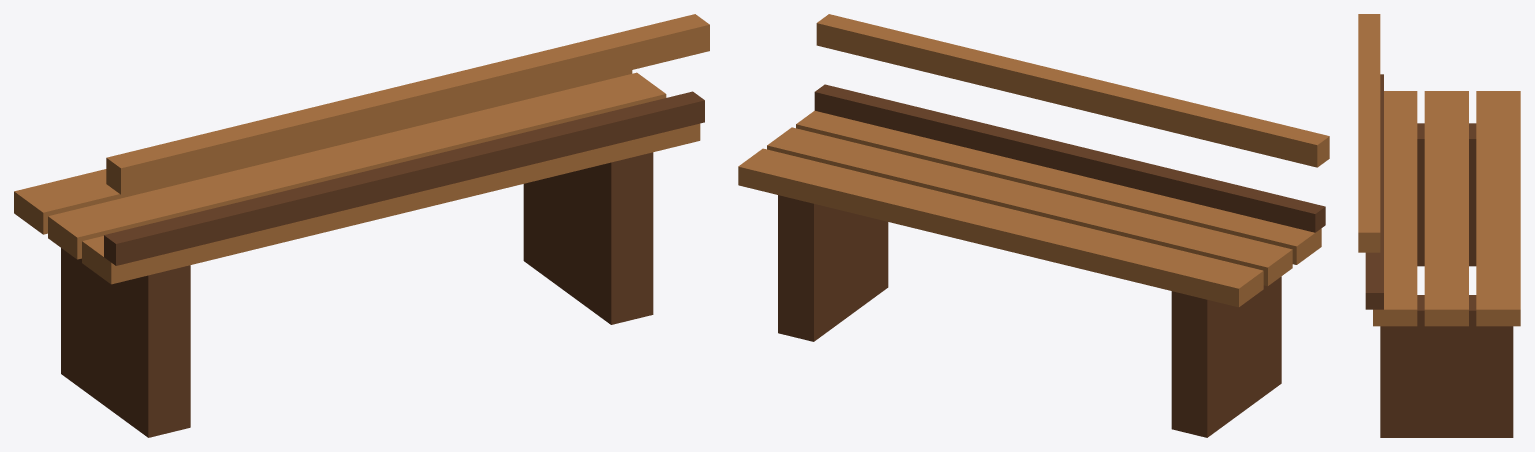
File: bench.obj
The picture shows the model from 3 angles, left to right: view 1: azimuth 30°, elevation 25°; view 2: azimuth 150°, elevation 25°; view 3: azimuth 270°, elevation 25°; orthographic projection. The views are drawn at different scales.
Parts seen in each view (by area): view 1: bench_wood_mid, bench_wood_dark; view 2: bench_wood_mid, bench_wood_dark; view 3: bench_wood_mid, bench_wood_dark.
Part boxes in pixels (bbox=[...]): bench_wood_mid: bbox=[14, 14, 709, 284]; bench_wood_dark: bbox=[61, 91, 704, 437]; bench_wood_mid: bbox=[738, 14, 1329, 307]; bench_wood_dark: bbox=[778, 84, 1325, 437]; bench_wood_mid: bbox=[1358, 14, 1520, 326]; bench_wood_dark: bbox=[1365, 74, 1513, 437].
Bounding box in the file's own units: 1.4 × 0.66 × 0.44.
